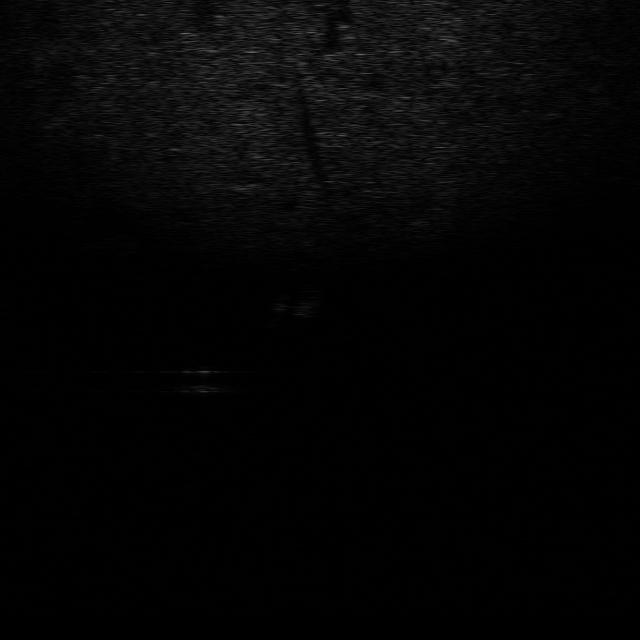ball: (178, 364, 230, 394)
human body: (270, 277, 321, 327)
